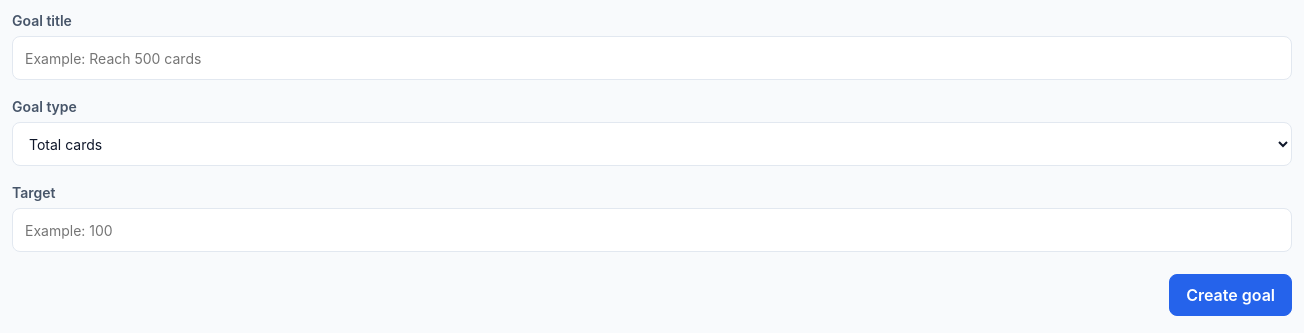
Test: CollectionGoalForm › should show collection field for collection completion goal
Select "Complete a collection" in the dropdown labelled "Goal type" at x=652, y=144, box [12,122,1292,166]
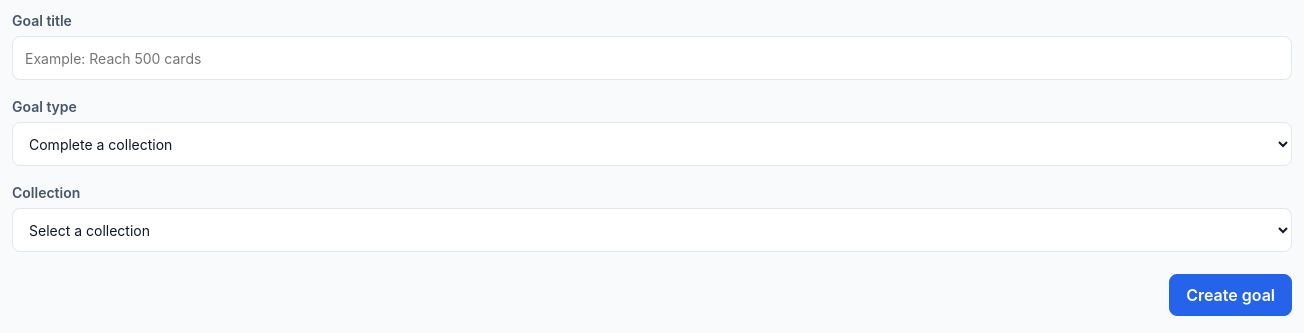
Expected: the dropdown labelled "Collection" is shown, [12,208,1292,252]
Expected: the label labelled "Target" is gone
